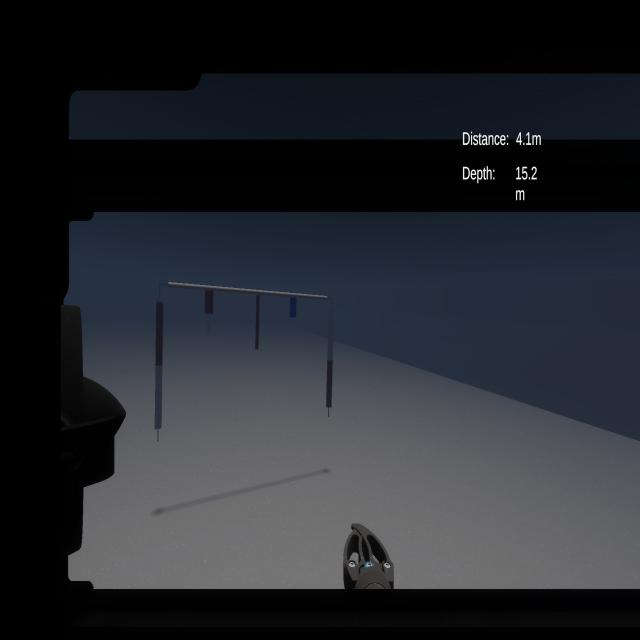Depth: (458, 162, 551, 205)
Distance: (455, 123, 552, 157)
Gate: (134, 247, 364, 478)
